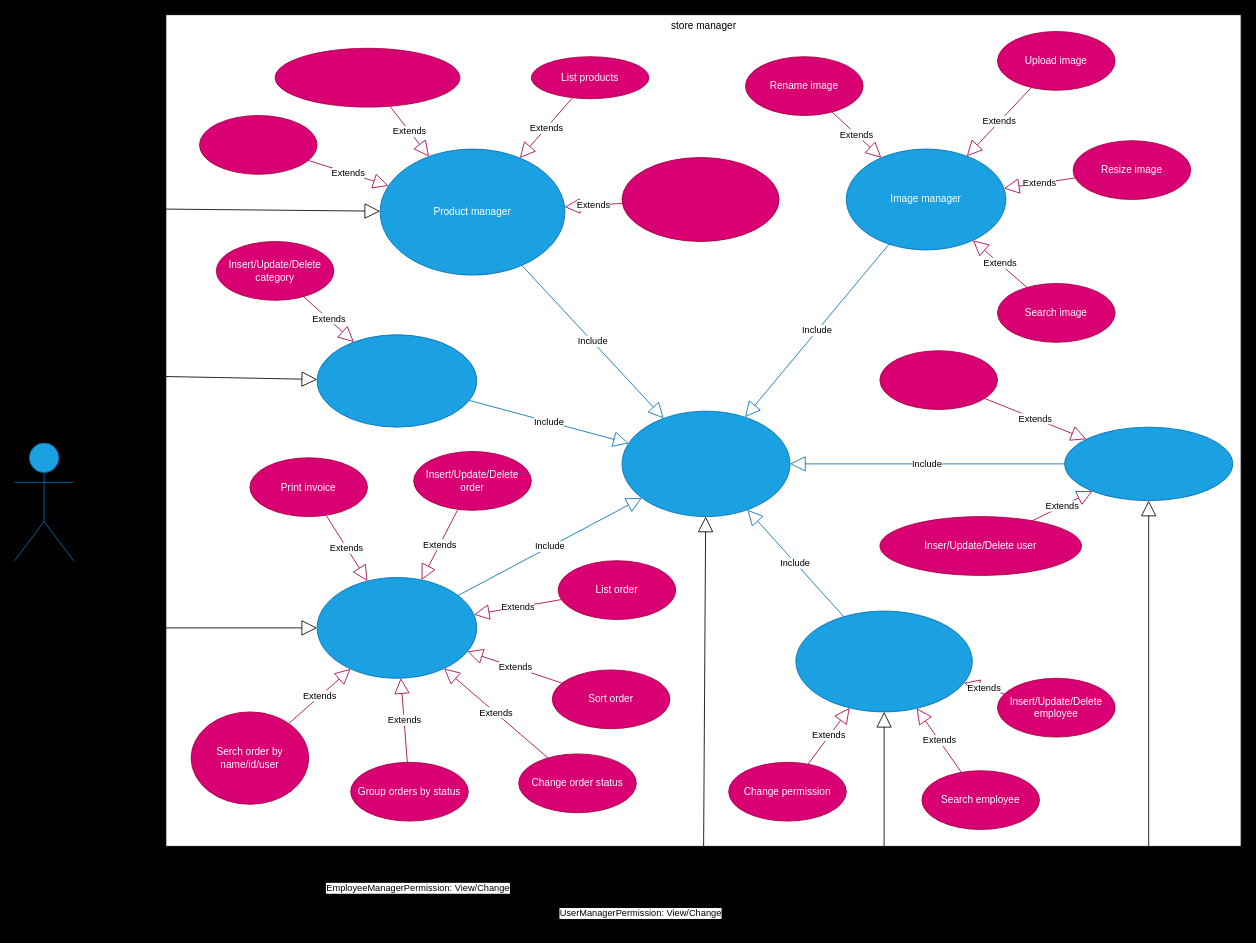
Image size: 1256x943. Some labels were removed from this diagram. The shapes that lost their labels are listed below. From the top down, each one's centre as x and y in pixels, then its label:
At point (367, 77): "Insert/Update/Delete product".
At point (258, 144): "Search product".
At point (700, 199): "Sort products ascending/descending by time/name".
At point (396, 380): "Category manager".
At point (938, 380): "Search user".
At point (705, 463): "Login".
At point (1148, 463): "User namager".
At point (44, 501): "Admin".
At point (396, 627): "Order manager".
At point (883, 661): "Employee manager".
